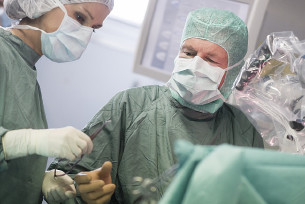face_mask: (39, 1, 108, 63), (170, 34, 228, 105)
